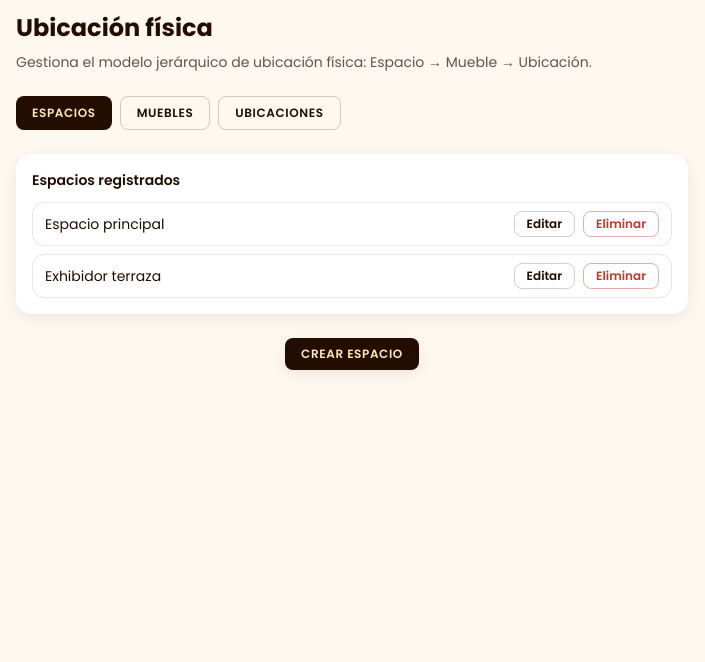
Test: GestionUbicacionFisicaComponent › pestaña Muebles › crea un mueble nuevo asociado a un espacio
The width and height of the screenshot is (705, 662).
Click the button "Muebles".
click(165, 113)  # box [120, 96, 210, 130]
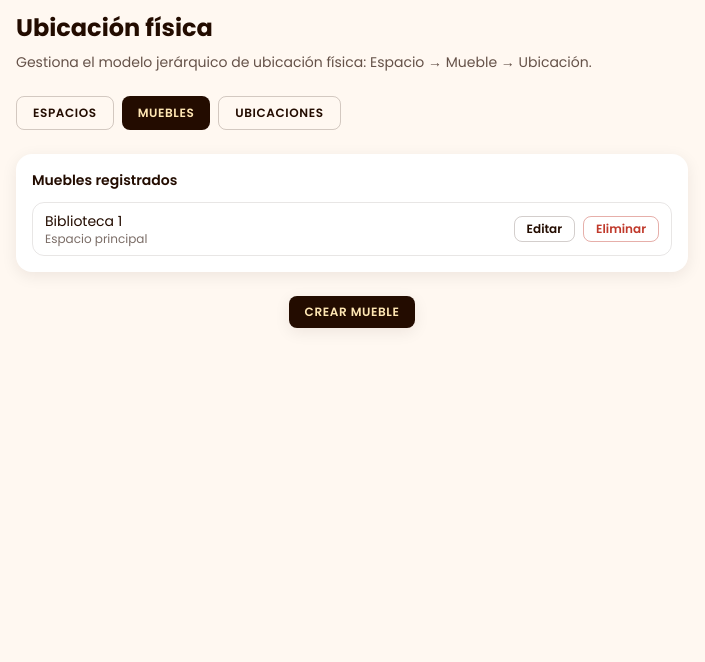
Click the button "Crear mueble".
click(352, 312)  # box [289, 296, 415, 328]
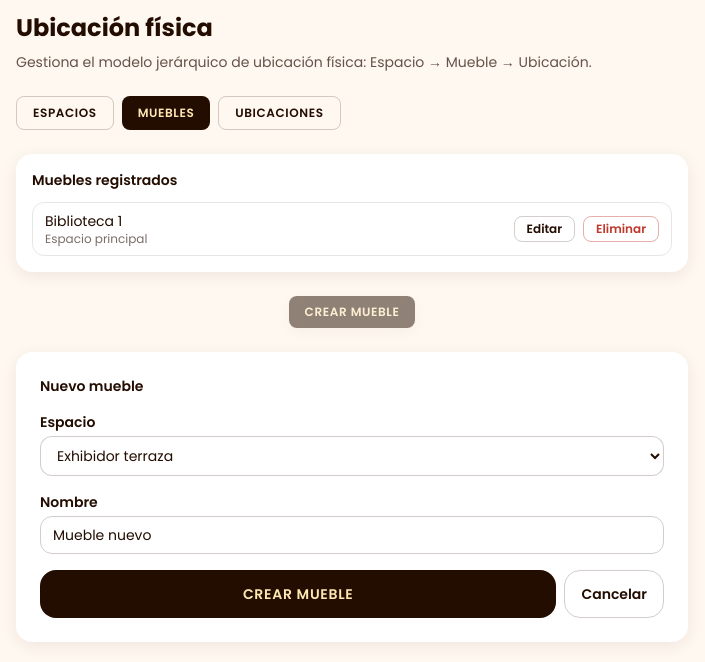
Submit the form, box [16, 352, 688, 642]
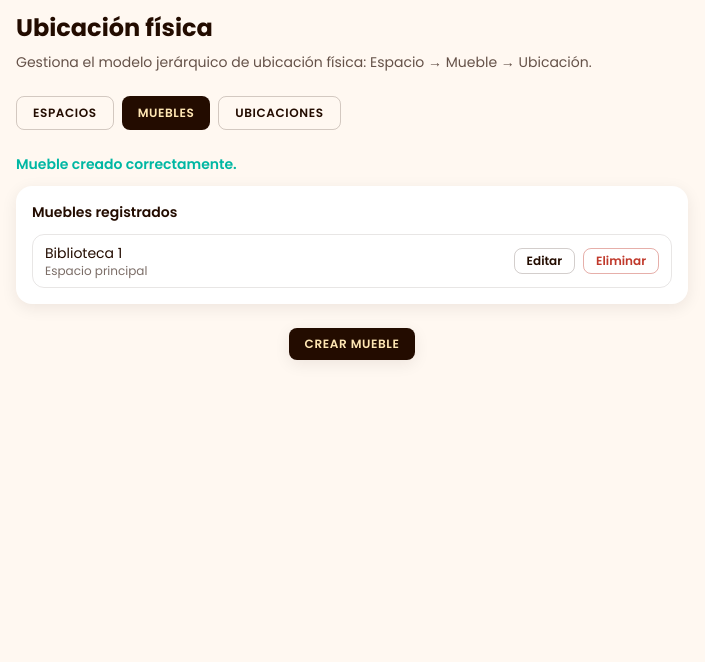
Expected: the text "Mueble creado correctamente." is shown, [16, 154, 237, 174]
